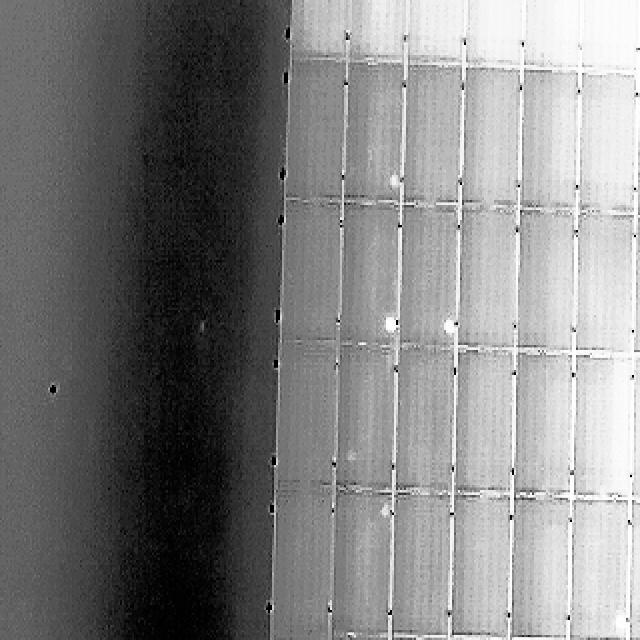Hotspots: (370, 313, 398, 345), (437, 316, 457, 344), (377, 314, 397, 340), (611, 612, 631, 638), (383, 173, 400, 200)
PV-modules: (273, 342, 336, 488), (344, 205, 406, 352), (271, 490, 332, 639), (514, 354, 576, 500), (336, 490, 396, 640), (449, 351, 510, 497), (398, 207, 459, 353), (340, 347, 401, 492), (517, 212, 578, 355), (446, 495, 506, 640), (574, 75, 635, 217), (402, 67, 464, 206), (392, 492, 450, 640), (512, 497, 572, 640), (566, 497, 626, 640), (278, 205, 338, 348), (571, 357, 630, 502), (454, 209, 513, 354), (348, 64, 409, 204), (572, 214, 632, 356), (283, 61, 343, 203), (396, 350, 455, 494), (521, 71, 580, 214), (457, 68, 516, 210), (578, 0, 638, 69), (521, 0, 581, 68), (464, 0, 524, 65), (405, 0, 466, 63), (344, 0, 404, 62), (292, 0, 351, 59), (630, 500, 640, 640), (634, 358, 640, 502), (636, 215, 640, 357), (634, 0, 640, 72), (332, 635, 392, 640), (266, 635, 326, 640), (638, 75, 640, 217), (386, 637, 448, 640)
